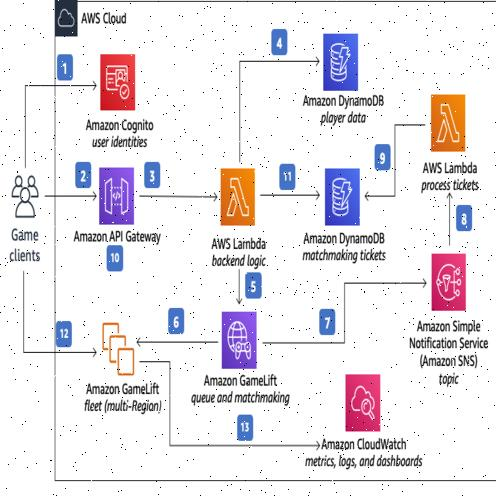actor: (5, 177, 46, 254)
api_gateway: (80, 172, 156, 249)
compute: (190, 326, 282, 402), (80, 326, 156, 402), (205, 172, 266, 249), (420, 116, 481, 192)
data_flow: (174, 448, 297, 454), (23, 247, 28, 348), (23, 88, 28, 180), (238, 88, 243, 170), (448, 192, 453, 270), (26, 85, 87, 90), (241, 85, 302, 90), (233, 252, 238, 313), (287, 336, 348, 341), (348, 280, 420, 284), (172, 400, 177, 451), (26, 346, 76, 351), (41, 192, 82, 198), (266, 192, 307, 198), (346, 277, 350, 338), (154, 192, 194, 198), (392, 154, 396, 205), (154, 336, 194, 341), (400, 152, 420, 156), (376, 208, 392, 213), (156, 397, 172, 402)
database_storage: (297, 172, 389, 249), (304, 44, 382, 121)
network_security: (294, 395, 422, 456), (80, 54, 156, 131), (420, 274, 481, 351)
trust_boundary: (51, 0, 496, 484)
